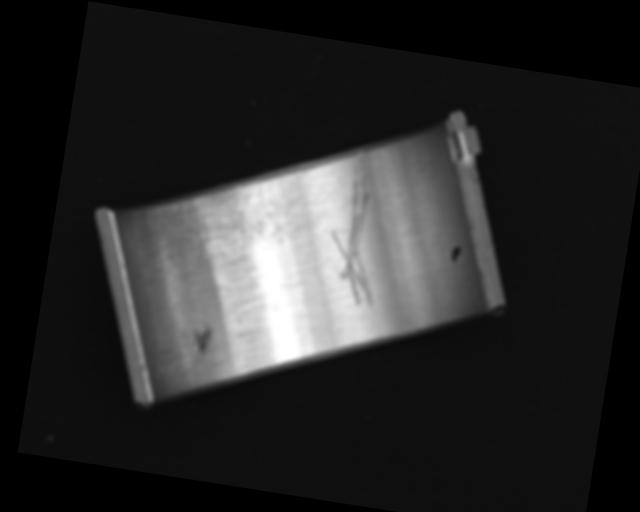blot: (449, 245, 462, 266)
bruise: (189, 323, 214, 356)
nick: (321, 147, 397, 309)
scratch: (159, 163, 302, 277)
